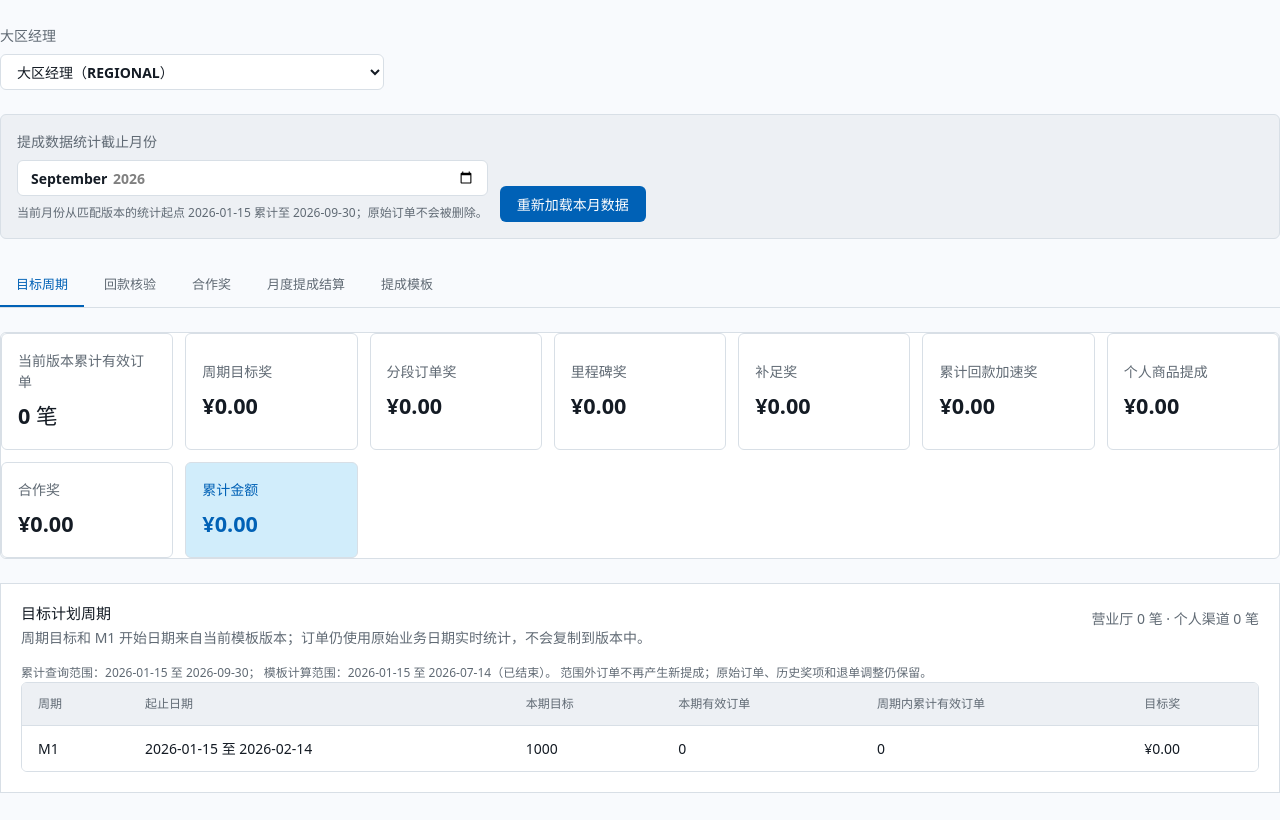
Test: 大区经理目标周期 › 合作奖确认条件不满足时弹窗显示服务端具体原因
The image size is (1280, 820).
Click the button "合作奖" at (212, 285), box 176,263 -> 247,307
(page scrolled)
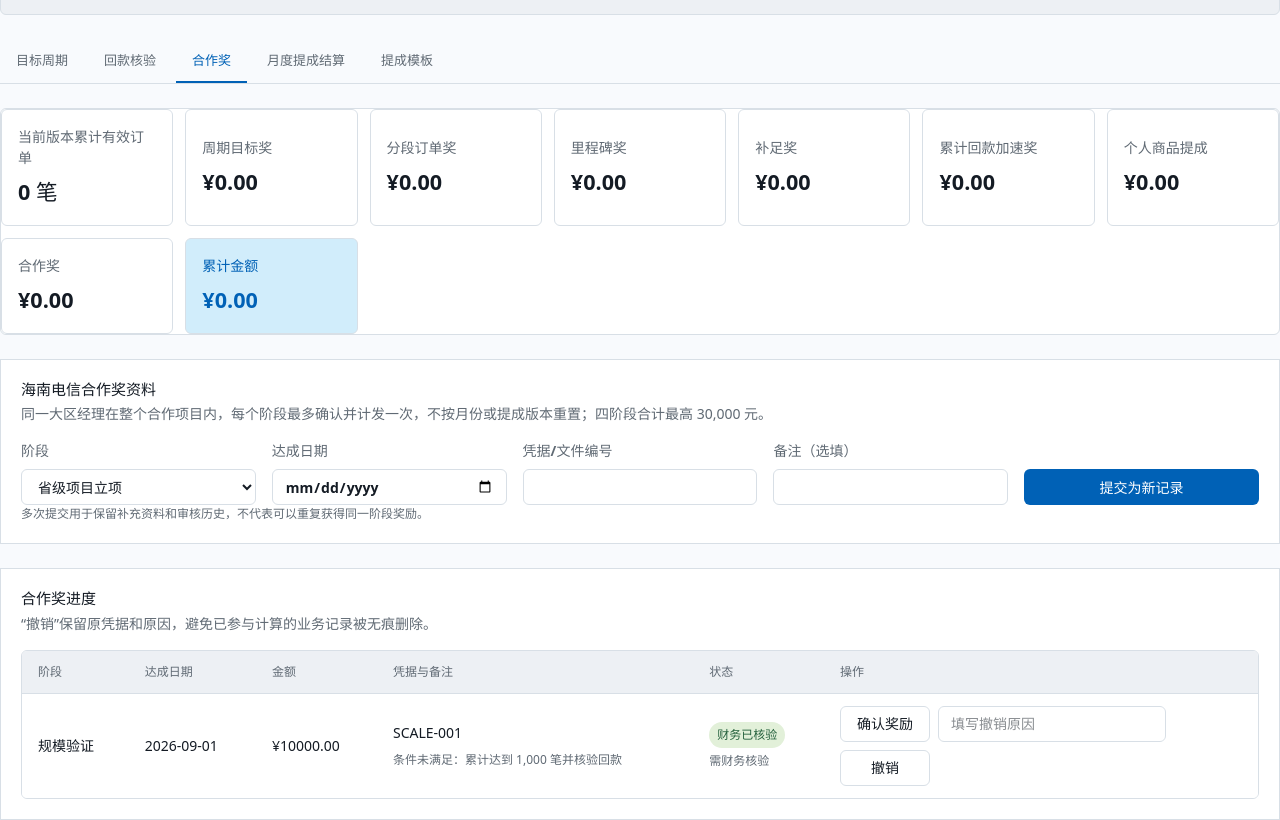
Click the button "确认奖励" at (885, 724), box 840,706 -> 930,742
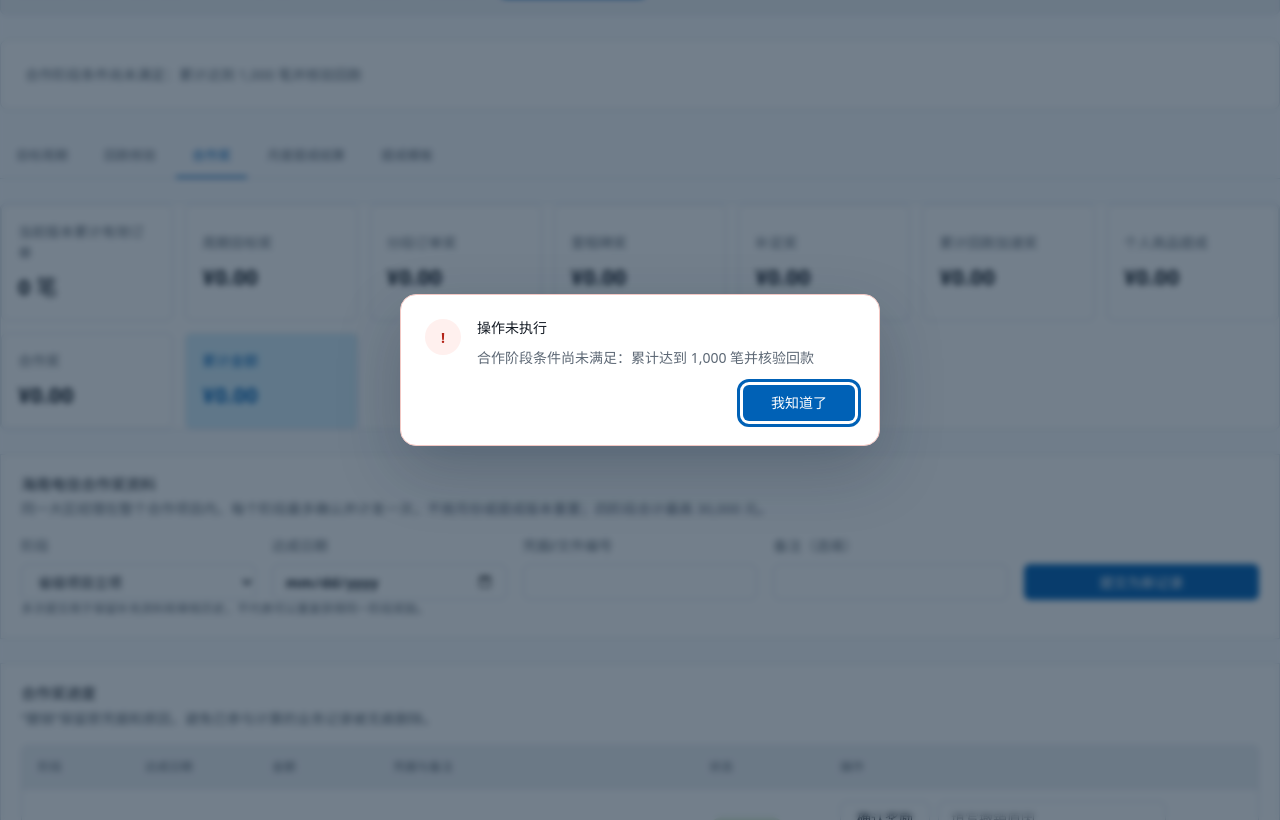
Expected: the dialog shows "累计达到 1,000 笔并核验回款", 477,348 -> 814,366
